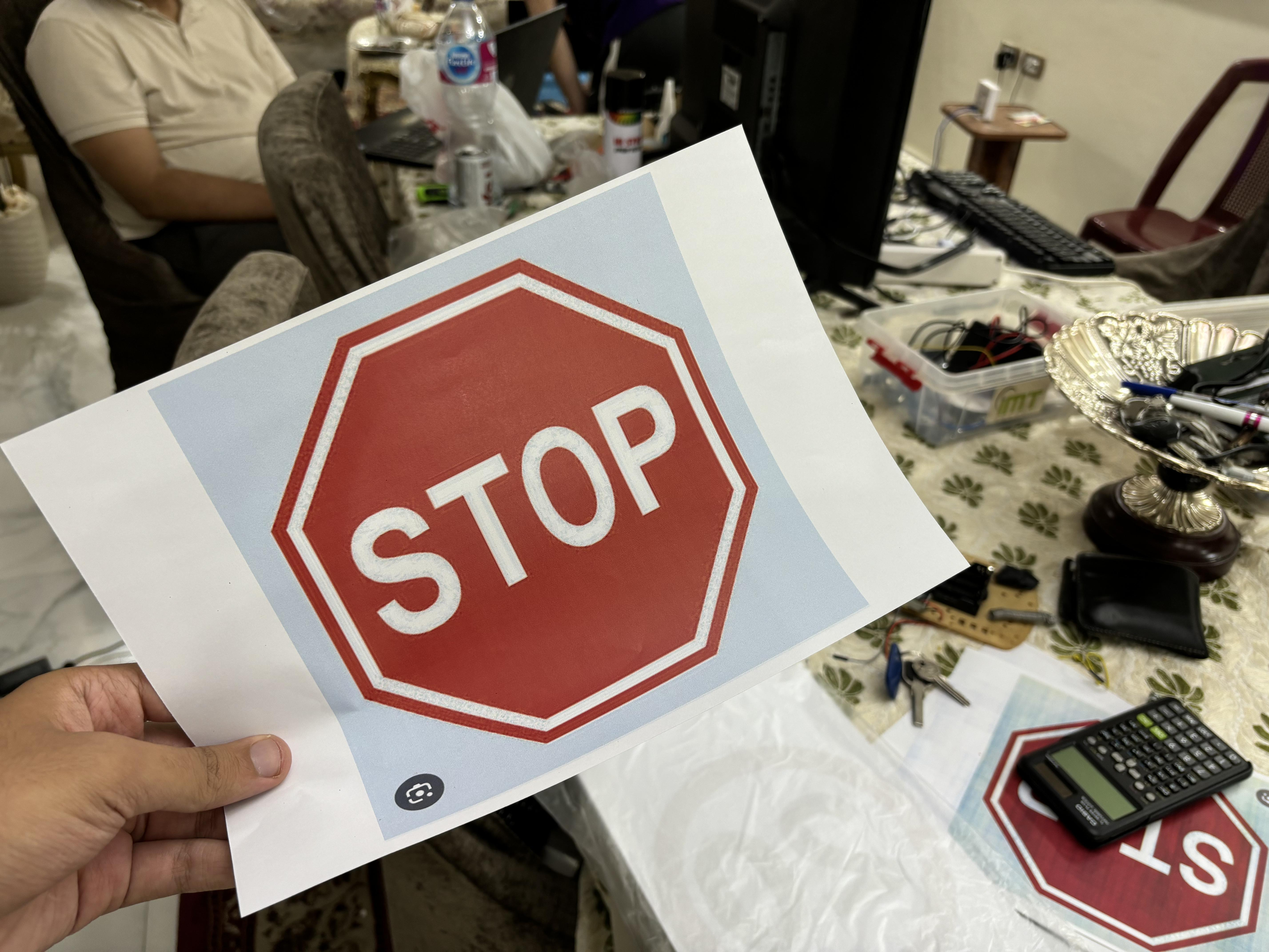Stop: (269, 249, 765, 747)
